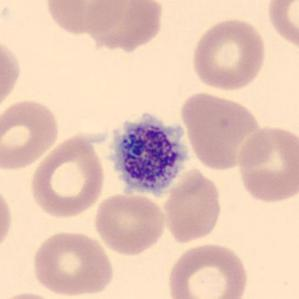Lymphocyte: (102, 105, 194, 204)
RBC: (26, 131, 108, 220), (177, 90, 262, 172), (188, 15, 270, 92), (30, 228, 116, 298), (234, 122, 298, 205), (160, 166, 224, 246), (164, 241, 252, 299), (91, 191, 168, 257), (0, 97, 62, 172), (79, 0, 166, 53), (41, 0, 128, 36), (0, 33, 23, 115), (264, 0, 298, 54), (0, 181, 15, 257), (0, 289, 64, 299)
